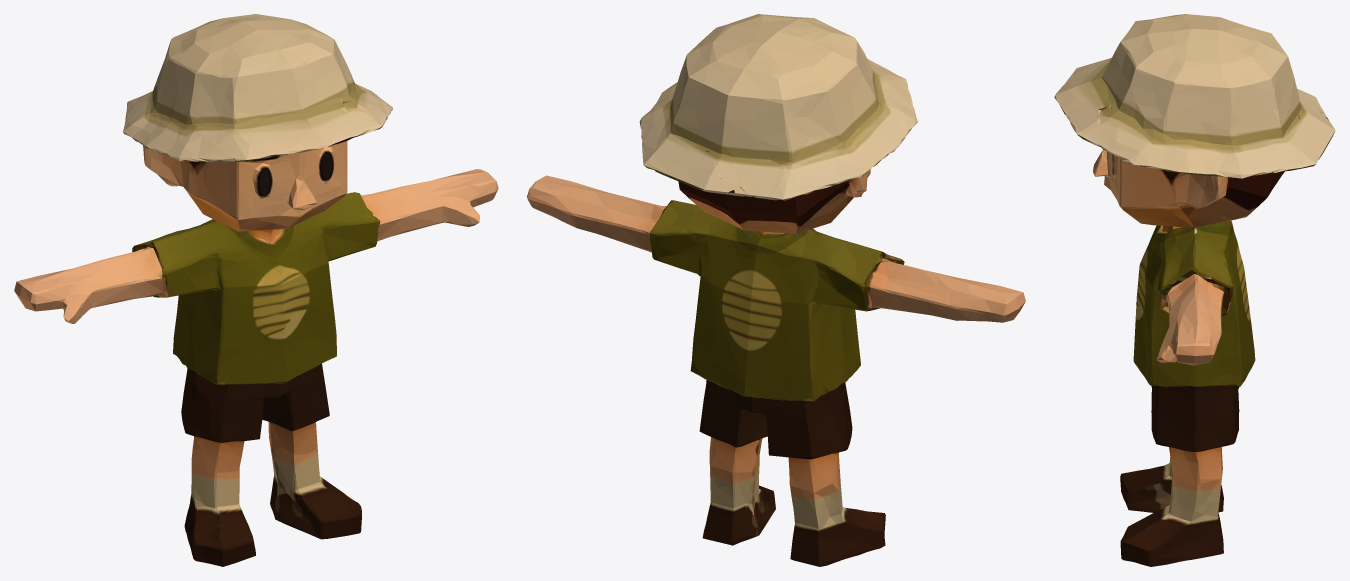
File: osulloc-premium-green-tea-waffles-254oz-72g-korean.glb
3 renders of one model, left to right at view 1: azimuth 30°, elevation 25°; view 2: azimuth 150°, elevation 25°; view 3: azimuth 270°, elevation 25°, orthographic. The views are drawn at different scales.
Visible parts, largest first — view 1: tmp5wvgsn80.ply; view 2: tmp5wvgsn80.ply; view 3: tmp5wvgsn80.ply.
Part boxes in pixels (x1,y1,x2,y2): tmp5wvgsn80.ply: (14,14,498,566); tmp5wvgsn80.ply: (527,14,1025,566); tmp5wvgsn80.ply: (1054,14,1335,566).
Bounding box in the file's own units: 1.98 × 1.99 × 1.02.
Materials: 1 (1 with a texture image).
